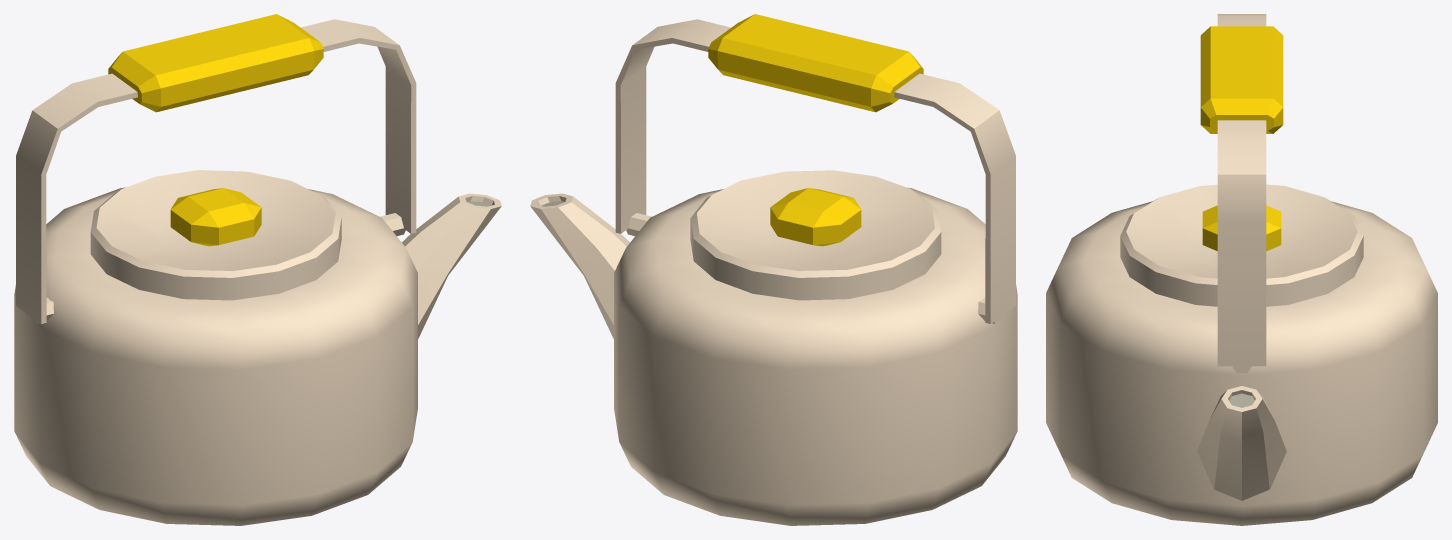
The model's file is PW_tea_pot.fbx.
3 renders of one model, left to right at view 1: azimuth 30°, elevation 25°; view 2: azimuth 150°, elevation 25°; view 3: azimuth 270°, elevation 25°, orthographic. The views are drawn at different scales.
Visible parts, largest first — view 1: tea_pot; view 2: tea_pot; view 3: tea_pot.
Boxes of the visible parts, <box> form: tea_pot: <box>14,14,501,525</box>; tea_pot: <box>530,14,1017,525</box>; tea_pot: <box>1046,14,1437,525</box>.
Bounding box in the file's own units: 59.7 × 49.83 × 44.66.
Materials: 1 (1 with a texture image).
